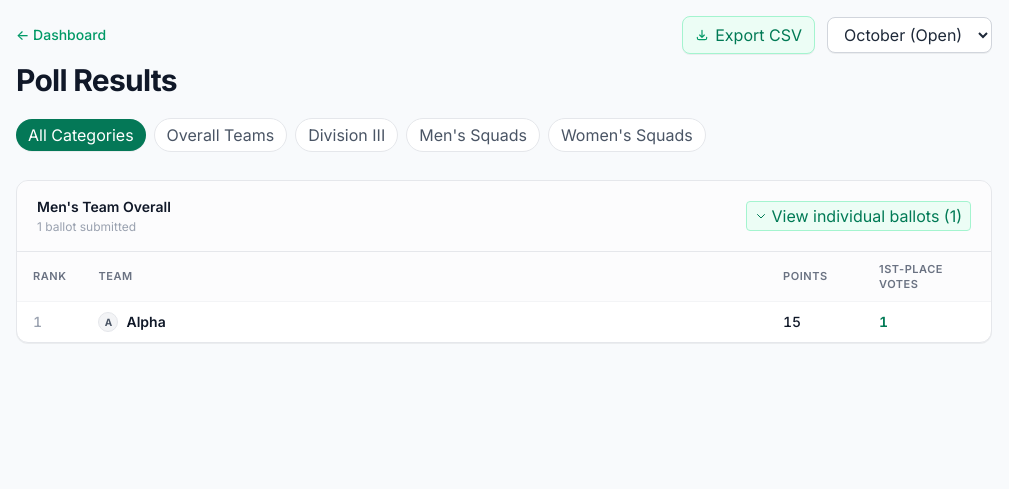
Scenario: PollResultsPage › shows aggregate results and closed individual ballots
The width and height of the screenshot is (1009, 489).
Expected: the heading "Poll Results" is shown, [16,62,177,98]
Expected: the text "Alpha" is shown, [126,312,166,332]
# Ballots are hidden by default — expand them first
Click the button "View individual ballots (1)" at (859,216), box [746,201,971,231]
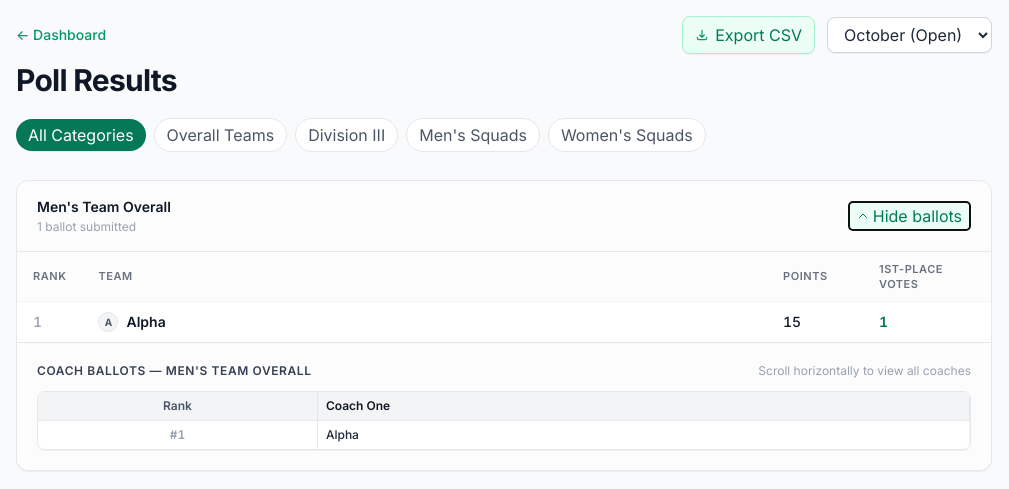
Result: the text "Coach One" is shown at [326,398,390,413]
